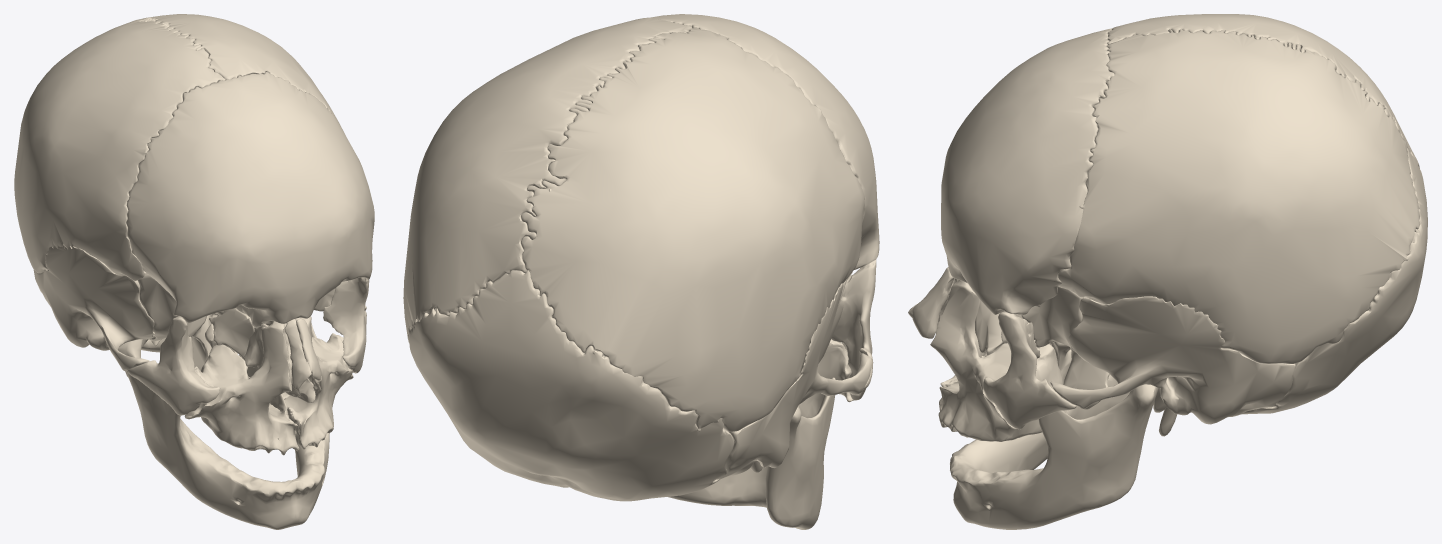
File: skeletal.head.glb
3 views of the same model, side by side, from view 1: azimuth 30°, elevation 25°; view 2: azimuth 150°, elevation 25°; view 3: azimuth 270°, elevation 25° (orthographic). The views are drawn at different scales.
Parts seen in each view (by area): view 1: frontal_bone, right_parietal_bone, mandible, right_temporal_bone, right_maxilla, left_parietal_bone, right_zygomatic_bone, left_maxilla, left_zygomatic_bone, sphenoid_bone, ethmoid, right_nasal_bone (+3 smaller); view 2: right_parietal_bone, occipital_bone, left_parietal_bone, frontal_bone, mandible, right_temporal_bone, right_zygomatic_bone, right_maxilla; view 3: left_parietal_bone, frontal_bone, mandible, left_temporal_bone, left_maxilla, occipital_bone, right_parietal_bone, left_zygomatic_bone, sphenoid_bone, left_nasal_bone, left_lacrimal_bone.
Part boxes in pixels (bbox=[...]): frontal_bone: bbox=[126, 72, 374, 328]; right_parietal_bone: bbox=[14, 18, 225, 280]; mandible: bbox=[118, 323, 329, 529]; right_temporal_bone: bbox=[33, 244, 154, 377]; right_maxilla: bbox=[184, 321, 299, 455]; left_parietal_bone: bbox=[138, 14, 345, 135]; right_zygomatic_bone: bbox=[127, 316, 220, 415]; left_maxilla: bbox=[284, 316, 353, 449]; left_zygomatic_bone: bbox=[323, 277, 369, 373]; sphenoid_bone: bbox=[138, 273, 347, 370]; ethmoid: bbox=[209, 308, 265, 360]; right_nasal_bone: bbox=[285, 319, 311, 389]; right_parietal_bone: bbox=[521, 27, 864, 431]; occipital_bone: bbox=[408, 270, 734, 501]; left_parietal_bone: bbox=[403, 17, 692, 342]; frontal_bone: bbox=[651, 14, 879, 269]; mandible: bbox=[668, 377, 835, 529]; right_temporal_bone: bbox=[717, 278, 872, 479]; right_zygomatic_bone: bbox=[831, 259, 876, 400]; right_maxilla: bbox=[798, 339, 853, 417]; left_parietal_bone: bbox=[1058, 29, 1420, 363]; frontal_bone: bbox=[941, 28, 1114, 315]; mandible: bbox=[950, 374, 1158, 529]; left_temporal_bone: bbox=[1050, 296, 1295, 436]; left_maxilla: bbox=[930, 280, 1063, 441]; occipital_bone: bbox=[1240, 147, 1427, 414]; right_parietal_bone: bbox=[1107, 14, 1419, 168]; left_zygomatic_bone: bbox=[983, 312, 1076, 429]; sphenoid_bone: bbox=[1021, 286, 1109, 409]; left_nasal_bone: bbox=[912, 267, 954, 338]; left_lacrimal_bone: bbox=[975, 301, 1002, 355].
Size of the model in its own units: 0.151 by 0.2146 by 0.2086.
